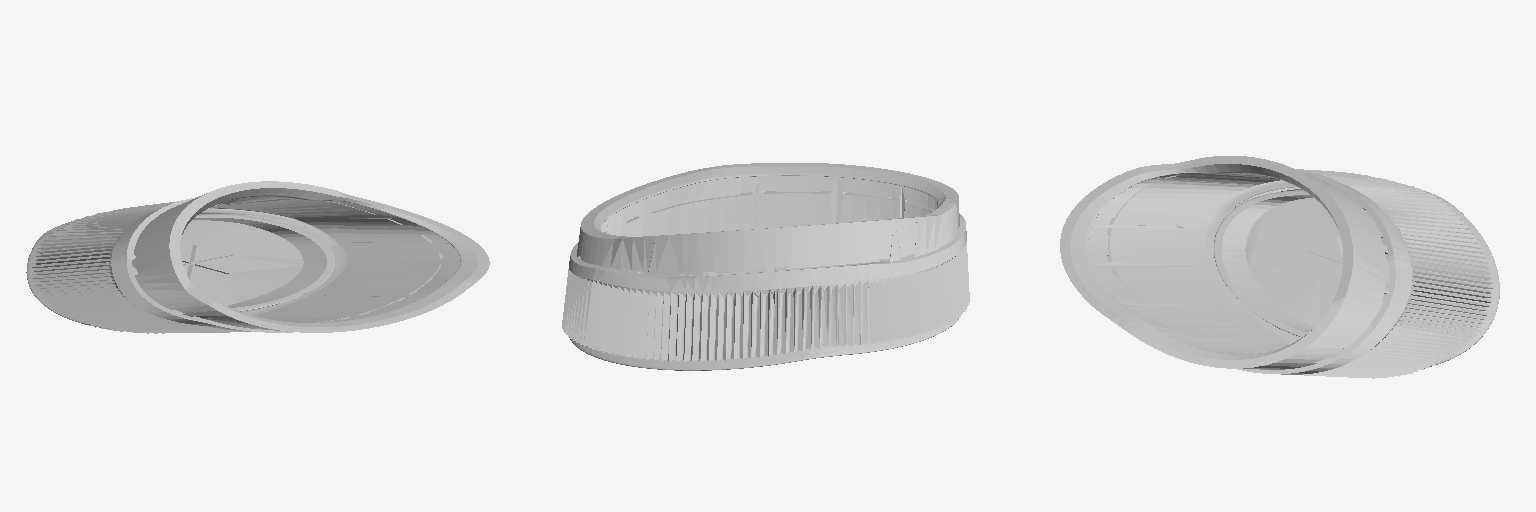
Rendered from bottle_cap_short.001.obj.
The picture shows the model from 3 angles: view 1: azimuth 30°, elevation 25°; view 2: azimuth 150°, elevation 25°; view 3: azimuth 270°, elevation 25°; orthographic projection.
Parts seen in each view (by area): view 1: bottle_cap_short.001; view 2: bottle_cap_short.001; view 3: bottle_cap_short.001.
Part boxes in pixels (x1,y1,x2,y2): bottle_cap_short.001: (26, 181, 489, 333); bottle_cap_short.001: (562, 163, 969, 370); bottle_cap_short.001: (1060, 156, 1499, 378).
Bounding box in the file's own units: 0.0345 × 0.009 × 0.0335.